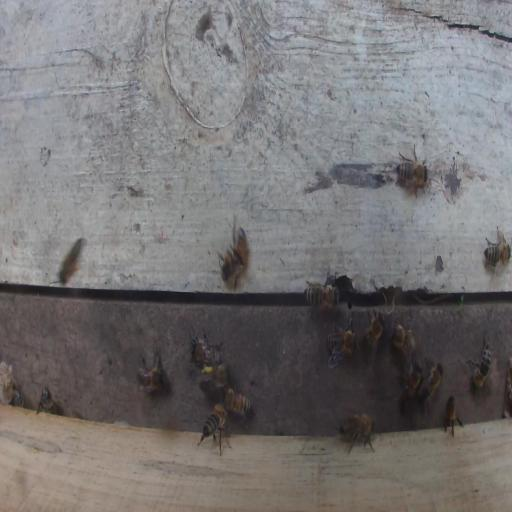bee: (217, 212, 249, 293), (394, 140, 430, 198), (197, 401, 232, 456), (324, 313, 359, 368), (417, 362, 444, 420), (465, 335, 492, 393), (338, 413, 377, 453), (305, 273, 340, 317), (389, 307, 416, 362), (484, 224, 511, 278), (190, 323, 222, 367), (398, 357, 424, 408), (362, 307, 386, 360), (58, 238, 82, 287), (136, 356, 166, 394), (222, 385, 252, 421), (199, 363, 231, 396), (443, 394, 465, 437), (36, 386, 55, 415)
